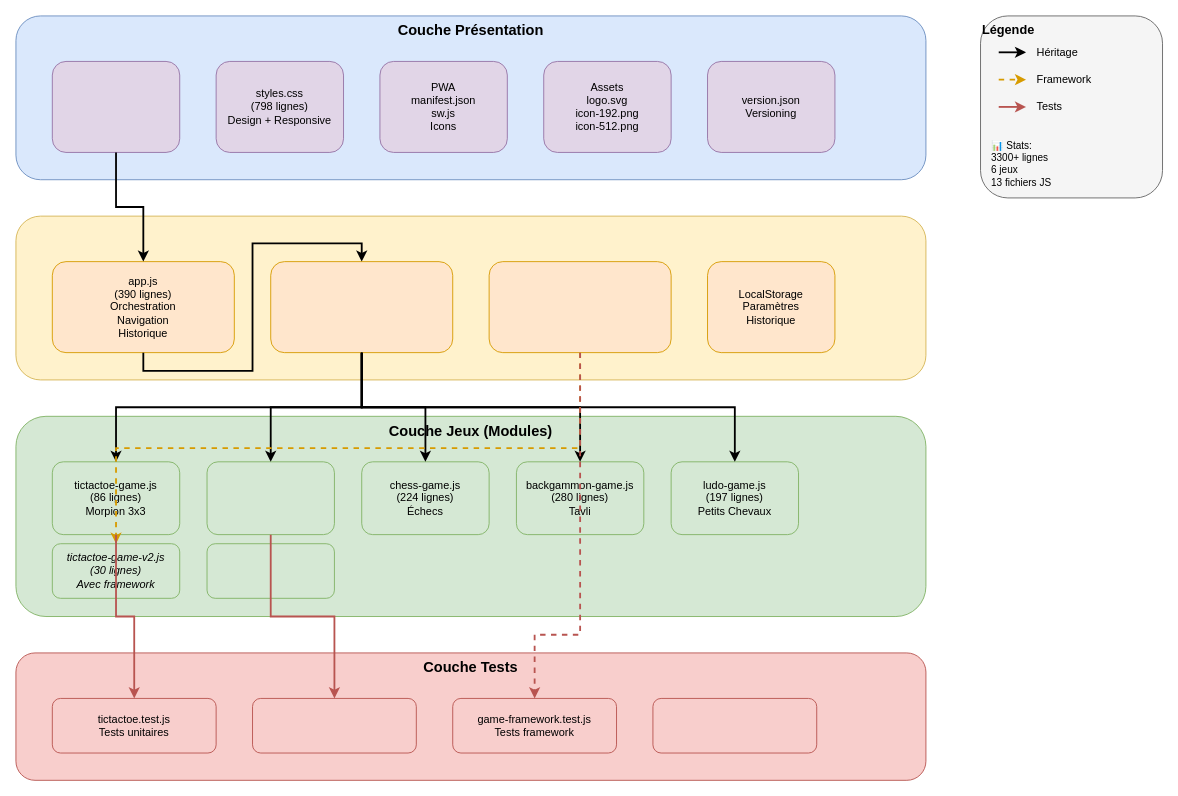
This 1178x796 diagram has some shape labels left out. The shapes that lost their labels are listed below. From the top down, each one's box as (x1, y1, x2, y2) in pixels, then its label:
(51, 61, 180, 152): index.html (359 lignes) Structure UI
(270, 261, 453, 353): base-game.js (48 lignes) Classe abstraite
(15, 215, 926, 380): Couche Application
(488, 261, 671, 353): game-framework.js (280 lignes) Framework interne Réduction 50-65%
(206, 461, 334, 535): checkers-game.js (176 lignes) Dames
(206, 543, 334, 598): abalone-game.js (320 lignes) Abalone
(252, 698, 416, 753): checkers.test.js Tests unitaires
(652, 698, 817, 753): Vitest + GitLab CI
